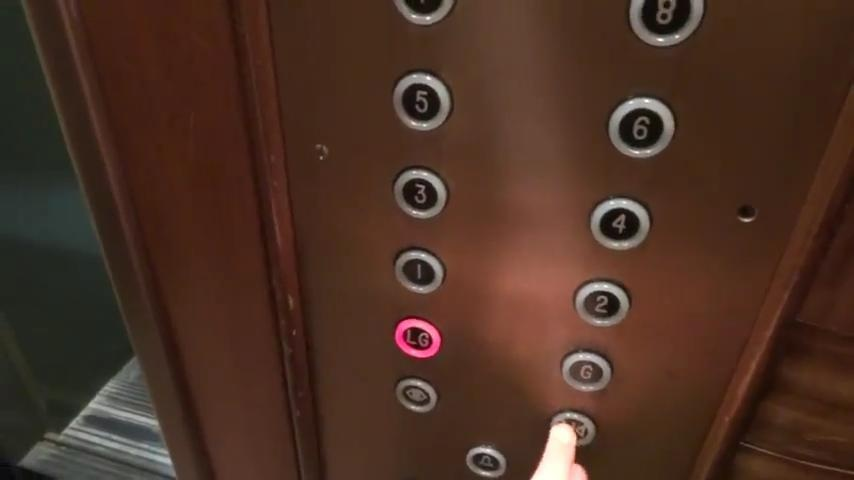1: (392, 246, 447, 296)
2: (574, 278, 631, 327)
3: (393, 166, 449, 221)
4: (587, 194, 652, 251)
5: (389, 69, 453, 131)
6: (608, 95, 675, 158)
8: (625, 1, 703, 46)
G: (561, 349, 613, 393)
LG: (392, 316, 440, 358)
alarm: (466, 446, 507, 477)
open: (395, 377, 438, 415)
